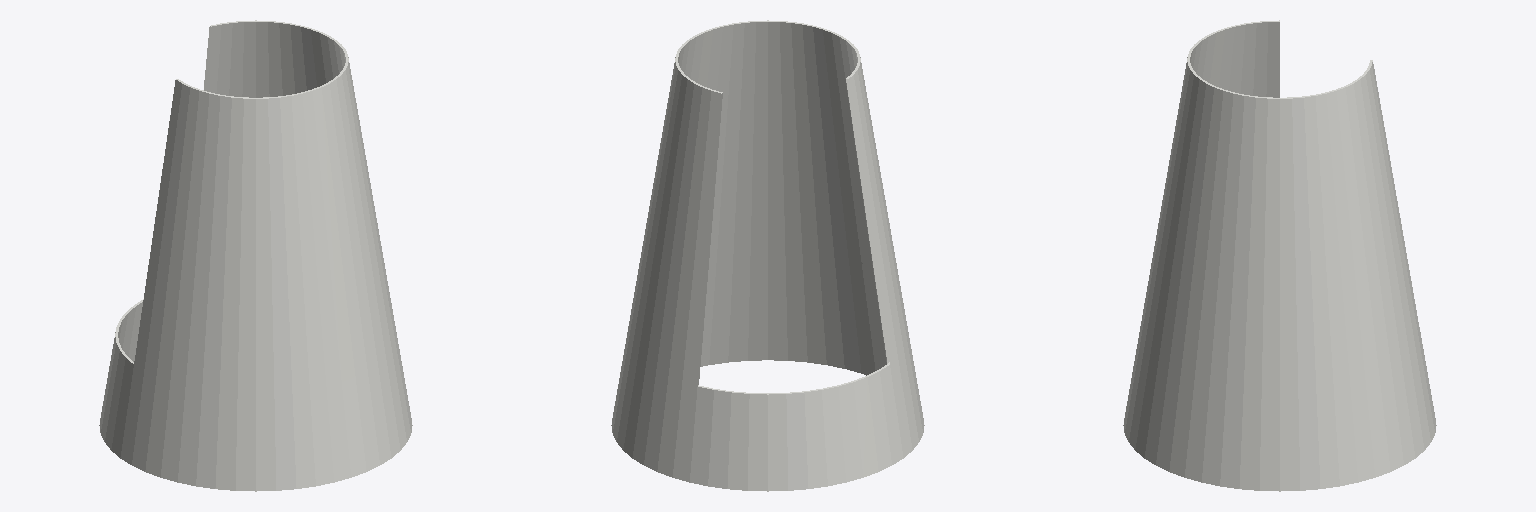
URDF robot description (sla):
<?xml version="1.0"?>
<!-- Spacecraft LM Adapter, four panels hinged at their base, at scale -->
<robot name="sla">
  <link name="base">
    <visual>
      <origin xyz="0 0 0" rpy="0 0 0"/>
      <geometry><mesh filename="meshes/sla_ring.stl"/></geometry>
      <material name="base_0"><color rgba="0.920 0.920 0.900 1"/></material>
    </visual>
    <inertial><mass value="1840"/><origin xyz="0 0 0"/><inertia ixx="1" ixy="0" ixz="0" iyy="1" iyz="0" izz="1"/></inertial>
  </link>
  <link name="panel_1">
    <visual>
      <origin xyz="0 0 0" rpy="0 0 0"/>
      <geometry><mesh filename="meshes/sla_panel_1.stl"/></geometry>
      <material name="panel_1_0"><color rgba="0.920 0.920 0.900 1"/></material>
    </visual>
    <inertial><mass value="1"/><origin xyz="0 0 0"/><inertia ixx="1" ixy="0" ixz="0" iyy="1" iyz="0" izz="1"/></inertial>
  </link>
  <joint name="panel_1" type="revolute">
    <parent link="base"/>
    <child link="panel_1"/>
    <origin xyz="2.09848 2.09848 2.1" rpy="0 0 0.785398"/>
    <axis xyz="0 1 0"/>
    <limit lower="-0.05" upper="1.6" effort="1000" velocity="1"/>
  </joint>
  <link name="panel_2">
    <visual>
      <origin xyz="0 0 0" rpy="0 0 0"/>
      <geometry><mesh filename="meshes/sla_panel_2.stl"/></geometry>
      <material name="panel_2_0"><color rgba="0.920 0.920 0.900 1"/></material>
    </visual>
    <inertial><mass value="1"/><origin xyz="0 0 0"/><inertia ixx="1" ixy="0" ixz="0" iyy="1" iyz="0" izz="1"/></inertial>
  </link>
  <joint name="panel_2" type="revolute">
    <parent link="base"/>
    <child link="panel_2"/>
    <origin xyz="-2.09848 2.09848 2.1" rpy="0 0 2.35619"/>
    <axis xyz="0 1 0"/>
    <limit lower="-0.05" upper="1.6" effort="1000" velocity="1"/>
  </joint>
  <link name="panel_3">
    <visual>
      <origin xyz="0 0 0" rpy="0 0 0"/>
      <geometry><mesh filename="meshes/sla_panel_3.stl"/></geometry>
      <material name="panel_3_0"><color rgba="0.920 0.920 0.900 1"/></material>
    </visual>
    <inertial><mass value="1"/><origin xyz="0 0 0"/><inertia ixx="1" ixy="0" ixz="0" iyy="1" iyz="0" izz="1"/></inertial>
  </link>
  <joint name="panel_3" type="revolute">
    <parent link="base"/>
    <child link="panel_3"/>
    <origin xyz="-2.09848 -2.09848 2.1" rpy="0 0 3.92699"/>
    <axis xyz="0 1 0"/>
    <limit lower="-0.05" upper="1.6" effort="1000" velocity="1"/>
  </joint>
  <link name="panel_4">
    <visual>
      <origin xyz="0 0 0" rpy="0 0 0"/>
      <geometry><mesh filename="meshes/sla_panel_4.stl"/></geometry>
      <material name="panel_4_0"><color rgba="0.920 0.920 0.900 1"/></material>
    </visual>
    <inertial><mass value="1"/><origin xyz="0 0 0"/><inertia ixx="1" ixy="0" ixz="0" iyy="1" iyz="0" izz="1"/></inertial>
  </link>
  <joint name="panel_4" type="revolute">
    <parent link="base"/>
    <child link="panel_4"/>
    <origin xyz="2.09848 -2.09848 2.1" rpy="0 0 5.49779"/>
    <axis xyz="0 1 0"/>
    <limit lower="-0.05" upper="1.6" effort="1000" velocity="1"/>
  </joint>
</robot>

--- Facts derived from the render (not from the file) ---
The picture shows the robot from 3 angles, left to right: view 1: azimuth 30°, elevation 25°; view 2: azimuth 150°, elevation 25°; view 3: azimuth 270°, elevation 25°; orthographic projection.
Robot: sla — 5 links, 4 joints (4 revolute); root link base; default pose: all joints at 0.
Links seen in each view (by area): view 1: panel_3, base, panel_4, panel_1; view 2: base, panel_4, panel_1, panel_3; view 3: panel_1, panel_4, base, panel_3.
Boxes of the visible links, left/top/right/bottom form: panel_3: left=134, top=79, right=325, bottom=394; base: left=99, top=299, right=412, bottom=491; panel_4: left=301, top=40, right=396, bottom=386; panel_1: left=204, top=20, right=338, bottom=97; base: left=611, top=277, right=924, bottom=491; panel_4: left=685, top=20, right=836, bottom=283; panel_1: left=627, top=40, right=722, bottom=386; panel_3: left=813, top=26, right=908, bottom=364; panel_1: left=1280, top=60, right=1420, bottom=394; panel_4: left=1139, top=60, right=1279, bottom=394; base: left=1123, top=332, right=1436, bottom=491; panel_3: left=1140, top=20, right=1279, bottom=326.
Bounding box of the posed robot: 6.6 × 6.6 × 8.5 m (x, y, z).
Meshes: 5 distinct files referenced, 4 mesh visuals loaded (4 binary STL); not drawn: 1 (reference not matched to a file when rendering).
